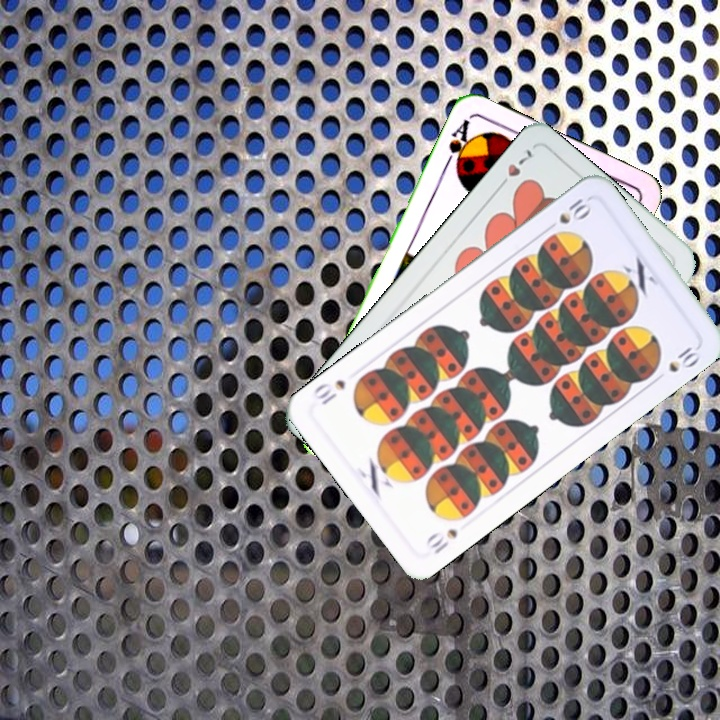H7: (492, 145, 535, 193)
S10: (542, 194, 594, 234), (421, 524, 461, 557)
SA: (440, 115, 477, 174)
